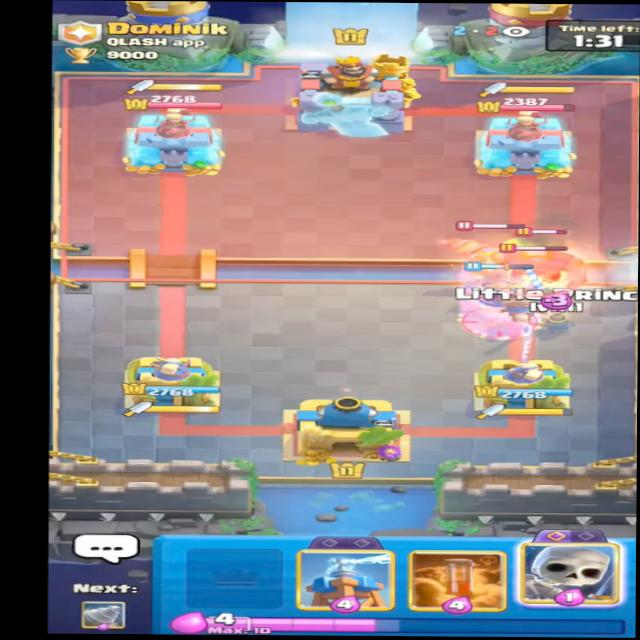giant: (488, 235, 603, 303)
goblin-machine: (434, 222, 556, 286)
